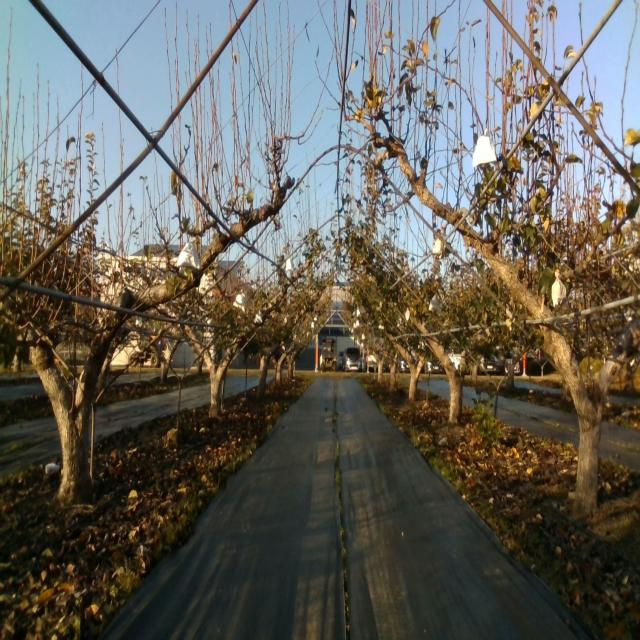pearbags: (473, 134, 497, 168), (177, 239, 200, 269), (552, 269, 566, 308), (232, 289, 246, 313), (428, 294, 441, 312)
